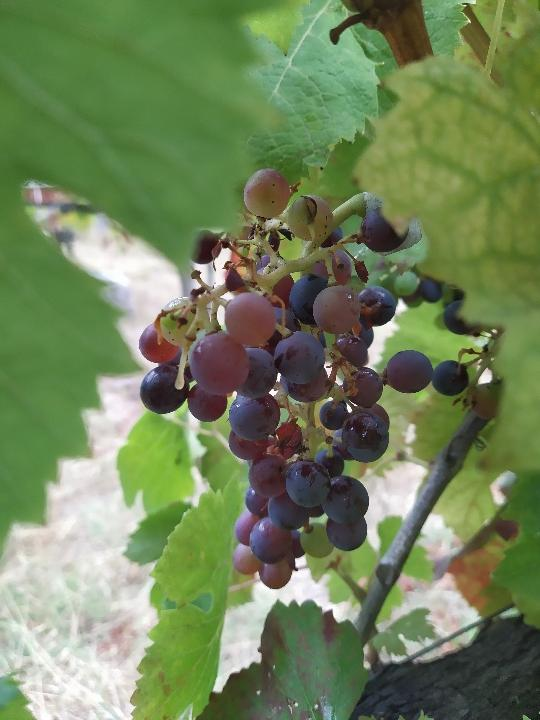grape: (132, 163, 471, 595)
